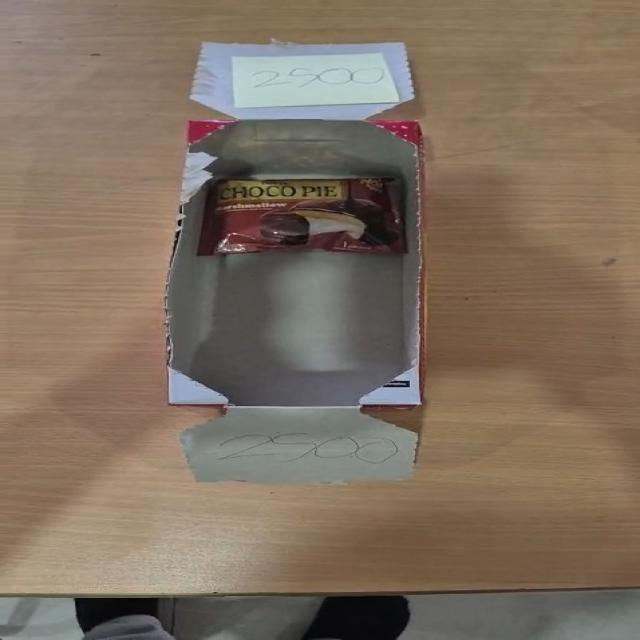Chocopie: (196, 175, 406, 256)
